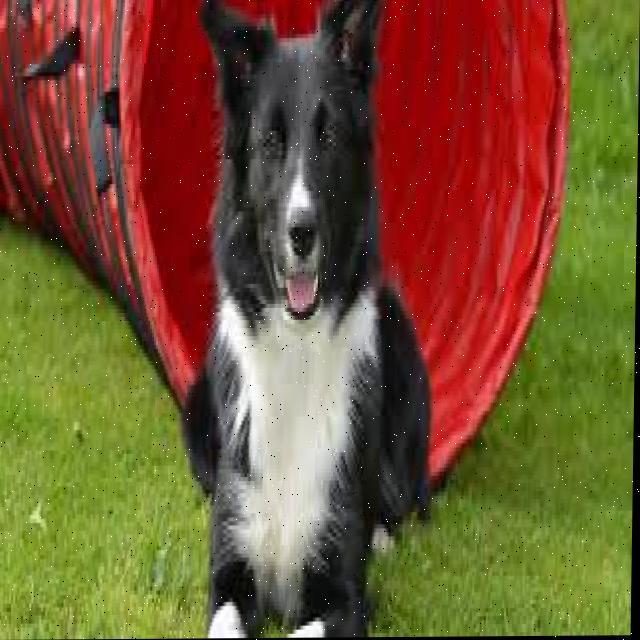BORDER_COLLIE: (183, 0, 449, 639)
